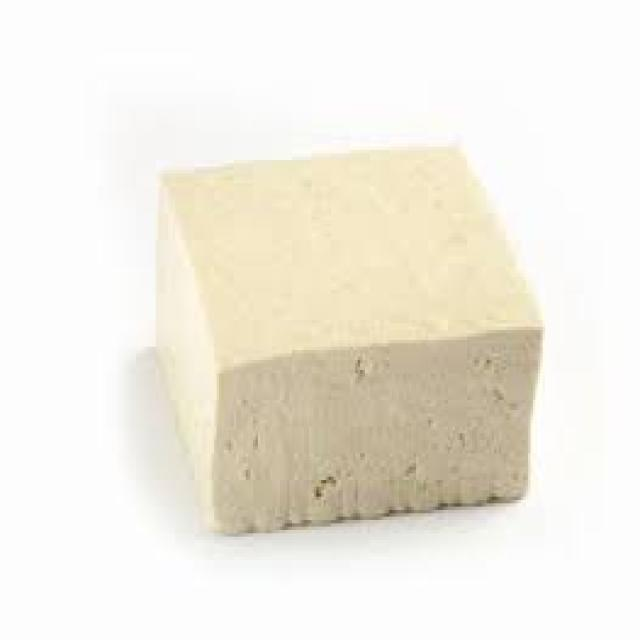tofu: (138, 122, 575, 554)
